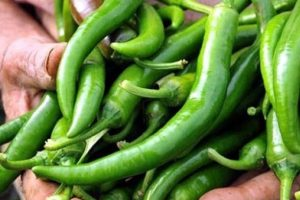Pepper: (34, 10, 239, 194)
